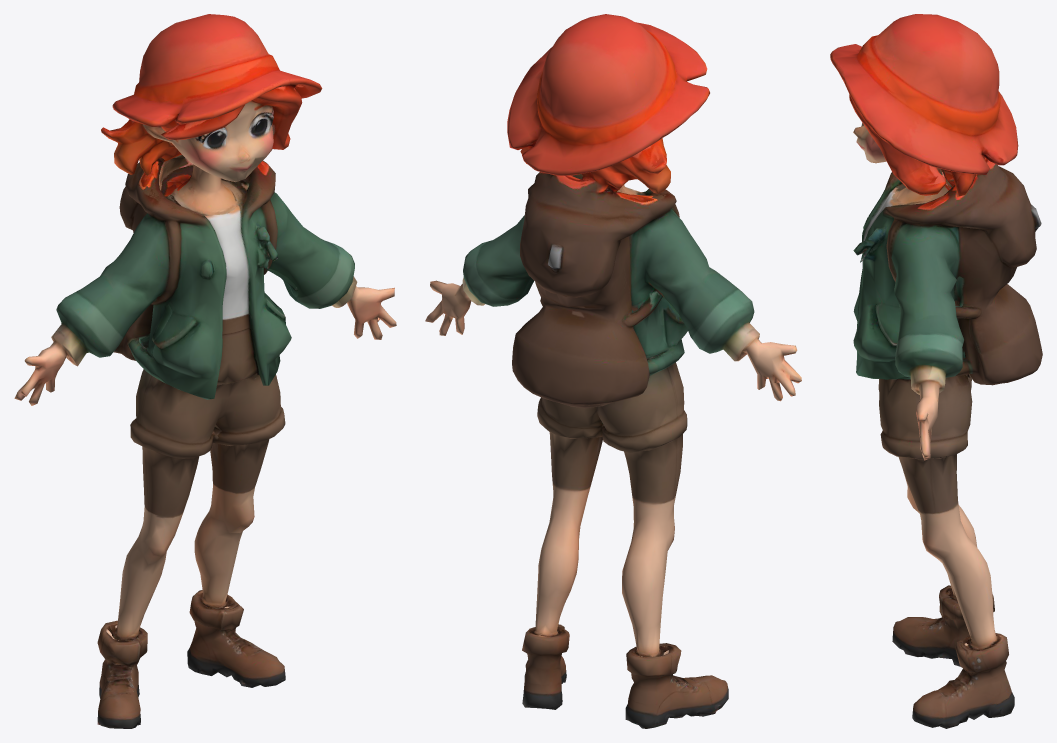
Rendered from NPC_escursionista_donna.glb.
3 views of the same model, side by side, from view 1: azimuth 30°, elevation 25°; view 2: azimuth 150°, elevation 25°; view 3: azimuth 270°, elevation 25° (orthographic). The views are drawn at different scales.
Visible parts, largest first — view 1: Mesh1.0; view 2: Mesh1.0; view 3: Mesh1.0.
Part boxes in pixels (x1,y1,x2,y2): Mesh1.0: (14, 14, 396, 728); Mesh1.0: (425, 14, 801, 728); Mesh1.0: (830, 14, 1042, 728).
Bounding box in the file's own units: 0.9658 × 1.65 × 0.4717.
1 material, 1 textured.
